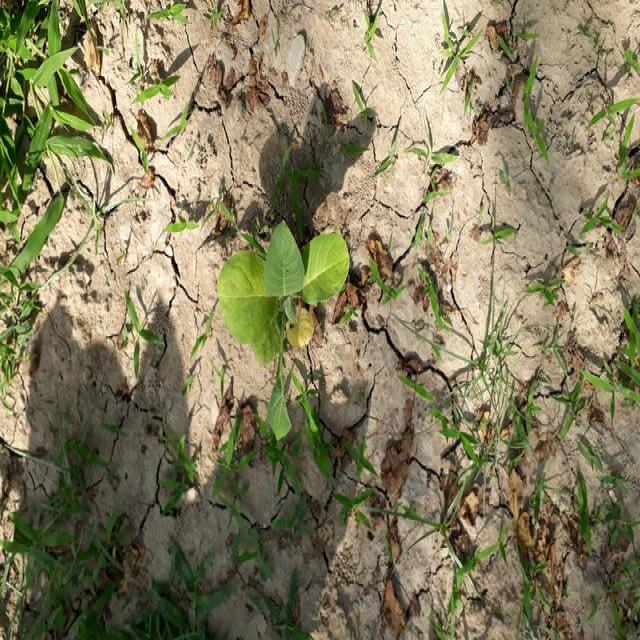crop: (212, 212, 347, 444)
